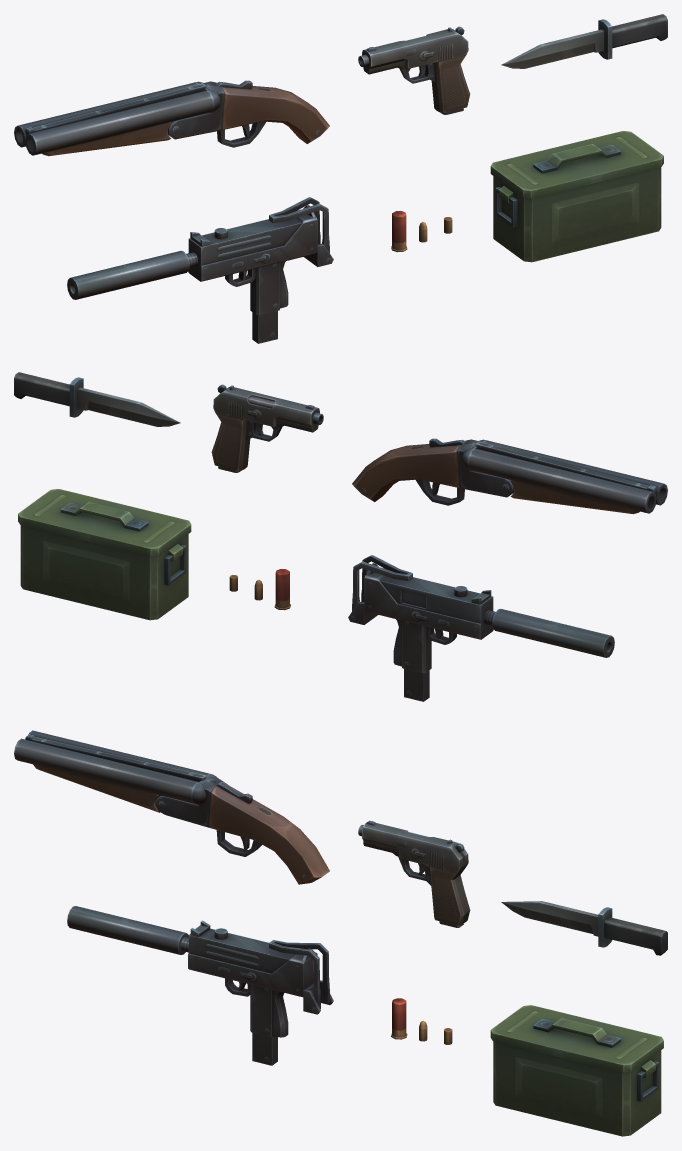
Rendered from weapon_pack (1).glb.
3 views of the same model, one above another, from view 1: azimuth 30°, elevation 25°; view 2: azimuth 150°, elevation 25°; view 3: azimuth 330°, elevation 25° (orthographic).
Parts seen in each view (by area): view 1: ammo_box, uzi, barrel, shotgun, knife, uzi._silencer, pistol_slide, pistol, uzi_stock, uzi_mag, shotgun_shell; view 2: ammo_box, uzi, barrel, shotgun, knife, uzi._silencer, pistol, pistol_slide, uzi_stock, uzi_mag, shotgun_shell; view 3: ammo_box, uzi, barrel, shotgun, knife, uzi._silencer, pistol_slide, pistol, uzi_stock, uzi_mag, shotgun_shell.
Boxes of the visible parts, left/top/right/bottom form: ammo_box: left=490, top=131, right=663, bottom=262; uzi: left=186, top=205, right=333, bottom=315; barrel: left=14, top=82, right=214, bottom=156; shotgun: left=168, top=80, right=329, bottom=147; knife: left=501, top=14, right=667, bottom=68; uzi._silencer: left=67, top=250, right=189, bottom=299; pistol_slide: left=362, top=27, right=468, bottom=68; pistol: left=358, top=54, right=470, bottom=112; uzi_stock: left=269, top=197, right=329, bottom=253; uzi_mag: left=252, top=311, right=277, bottom=343; shotgun_shell: left=391, top=211, right=407, bottom=252; ammo_box: left=18, top=489, right=191, bottom=620; uzi: left=348, top=563, right=495, bottom=673; barrel: left=467, top=440, right=667, bottom=514; shotgun: left=352, top=438, right=513, bottom=505; knife: left=14, top=372, right=180, bottom=426; uzi._silencer: left=492, top=608, right=614, bottom=657; pistol: left=211, top=396, right=323, bottom=470; pistol_slide: left=213, top=385, right=319, bottom=426; uzi_stock: left=352, top=555, right=412, bottom=611; uzi_mag: left=404, top=669, right=429, bottom=701; shotgun_shell: left=274, top=569, right=290, bottom=610; ammo_box: left=490, top=1005, right=663, bottom=1136; uzi: left=180, top=920, right=333, bottom=1037; barrel: left=14, top=730, right=210, bottom=812; shotgun: left=155, top=774, right=329, bottom=884; knife: left=501, top=901, right=667, bottom=955; uzi._silencer: left=67, top=906, right=188, bottom=954; pistol_slide: left=362, top=820, right=468, bottom=872; pistol: left=358, top=824, right=470, bottom=925; uzi_stock: left=269, top=940, right=329, bottom=1008; uzi_mag: left=252, top=1032, right=277, bottom=1065; shotgun_shell: left=391, top=998, right=407, bottom=1039.
Bounding box in the file's own units: 1.17 × 0.4726 × 0.1225.
6 materials, 6 textured.
